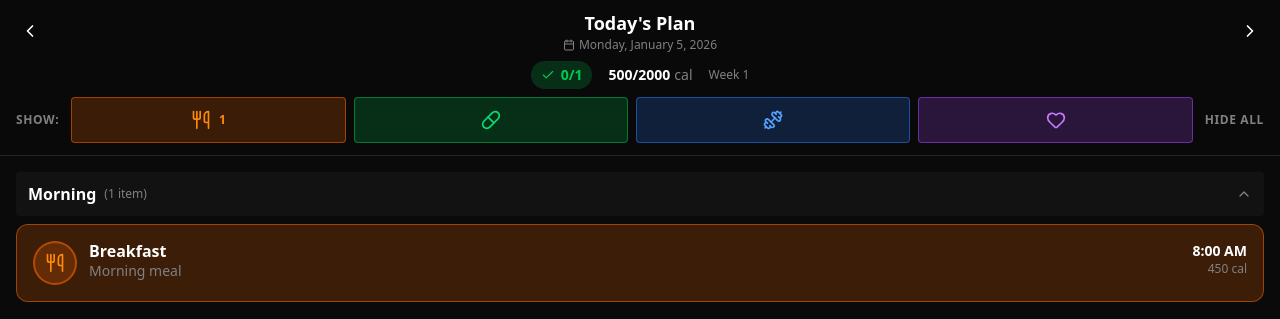
Test case: MobileTimelineView › collapsible periods › should collapse period when header clicked
expect the text "Breakfast" is shown: met, box left=89, top=240, right=166, bottom=262
Click the button "Morning (1 item)": (62, 194) left=16, top=172, right=1264, bottom=216
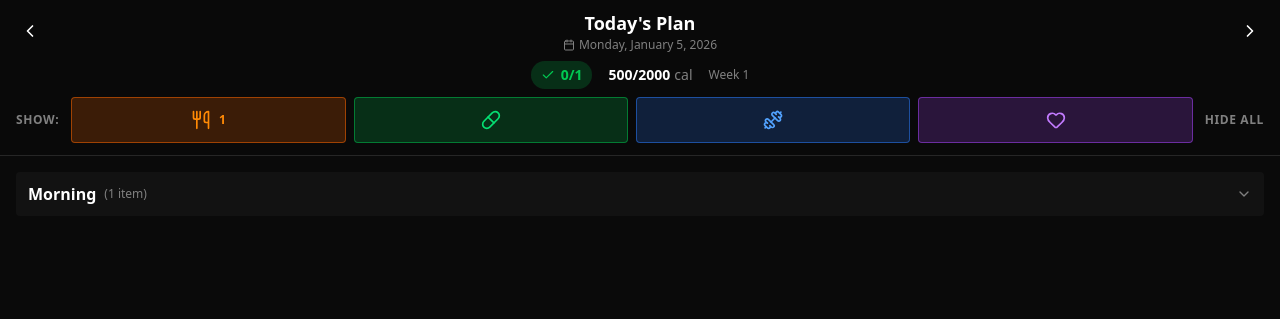
expect the text "Morning" is shown: met, box left=28, top=182, right=96, bottom=206
expect the button "Breakfast" is gone: met
